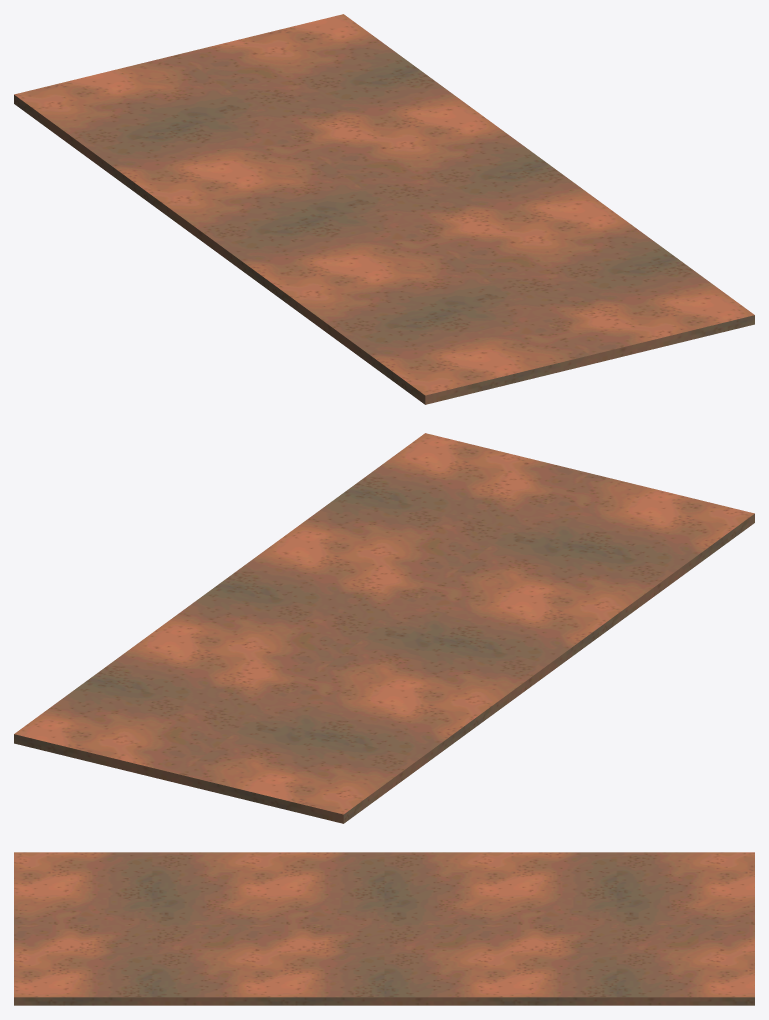
The model's file is Ground.glb.
3 renders of one model, top to bottom at view 1: azimuth 30°, elevation 25°; view 2: azimuth 150°, elevation 25°; view 3: azimuth 270°, elevation 25°, orthographic. The views are drawn at different scales.
Parts seen in each view (by area): view 1: Ground; view 2: Ground; view 3: Ground.
Part boxes in pixels (box(x1,y1,x2,y2)): Ground: box(14, 14, 754, 404); Ground: box(14, 433, 754, 823); Ground: box(14, 852, 754, 1005).
Size of the model in its own units: 9446 by 256 by 20410.
Materials: 1 (1 with a texture image).
